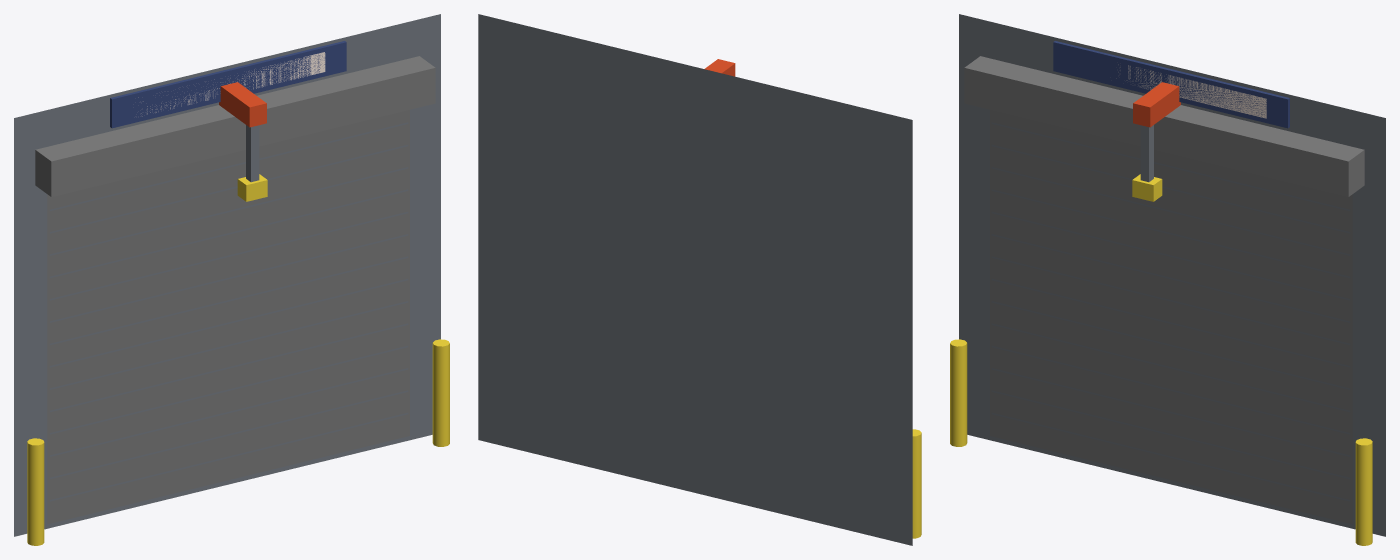
File: entrance_close.fbx
3 renders of one model, left to right at view 1: azimuth 30°, elevation 25°; view 2: azimuth 150°, elevation 25°; view 3: azimuth 330°, elevation 25°, orthographic.
Parts seen in each view (by area): view 1: a2004/200/entrance_close; view 2: a2004/200/entrance_close; view 3: a2004/200/entrance_close.
Part boxes in pixels (box(x1,y1,x2,y2)): a2004/200/entrance_close: box(14, 14, 449, 545); a2004/200/entrance_close: box(478, 14, 921, 545); a2004/200/entrance_close: box(950, 14, 1385, 545).
Bounding box in the file's own units: 4 × 3.75 × 0.5.
